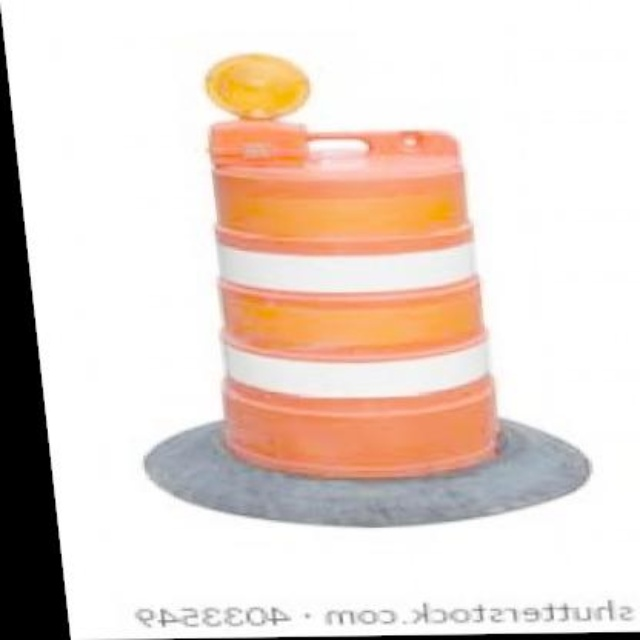obstacle: (156, 125, 512, 485)
